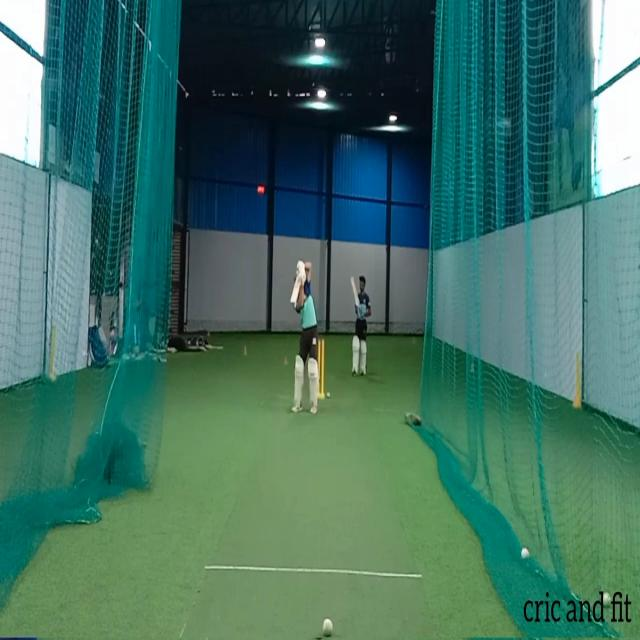batsman: (288, 257, 321, 417)
